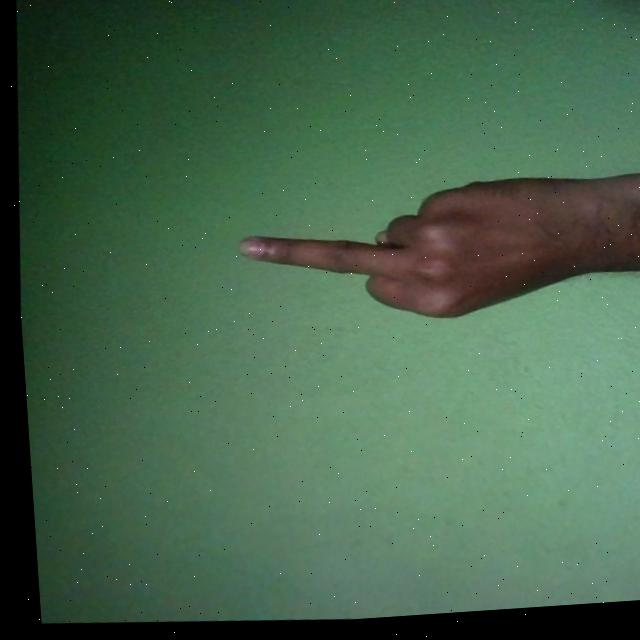Middle Finger: (227, 162, 640, 345)
